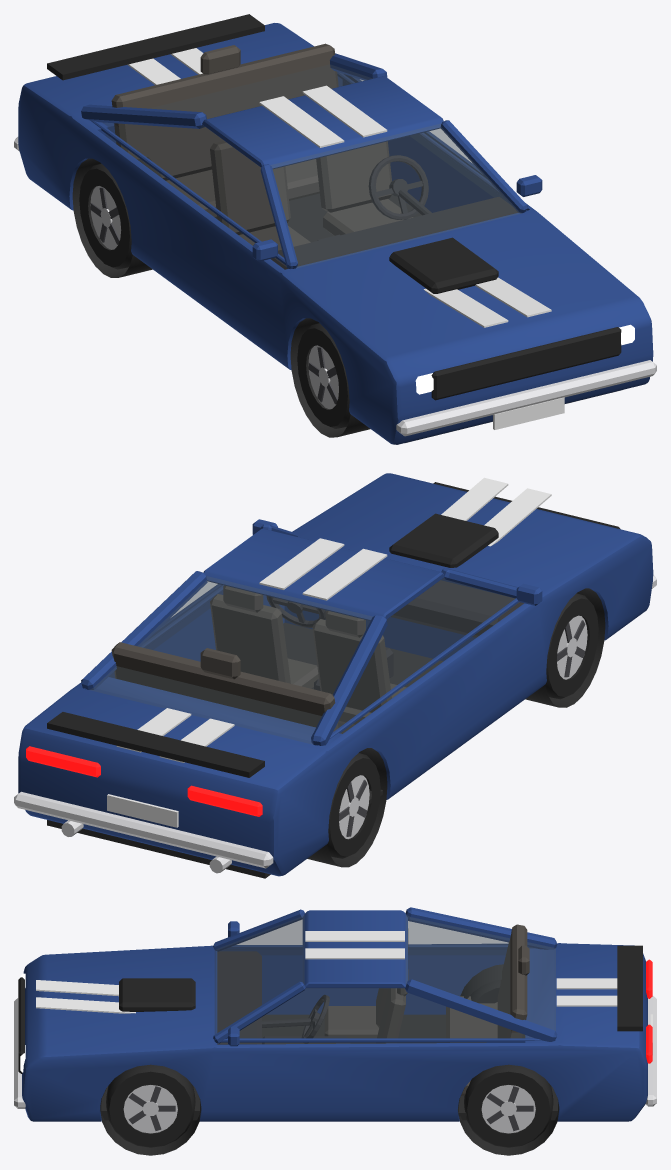
File: muscle_car.glb
The picture shows the model from 3 angles, top to bottom: view 1: azimuth 30°, elevation 25°; view 2: azimuth 150°, elevation 25°; view 3: azimuth 270°, elevation 25°; orthographic projection. The views are drawn at different scales.
Parts seen in each view (by area): view 1: muscle_car_body, glass, wheel_RR, wheel_FR, steering_wheel; view 2: muscle_car_body, glass, wheel_FR, wheel_RR, steering_wheel; view 3: muscle_car_body, glass, wheel_FL, wheel_RL, steering_wheel, wheel_RR.
Boxes of the visible parts, bbox=[...] form: muscle_car_body: bbox=[14, 14, 656, 444]; glass: bbox=[102, 64, 521, 268]; wheel_RR: bbox=[79, 163, 132, 269]; wheel_FR: bbox=[297, 323, 350, 428]; steering_wheel: bbox=[368, 155, 428, 219]; muscle_car_body: bbox=[14, 473, 656, 878]; glass: bbox=[90, 576, 519, 744]; wheel_FR: bbox=[545, 593, 598, 699]; wheel_RR: bbox=[327, 753, 380, 858]; steering_wheel: bbox=[266, 595, 325, 627]; muscle_car_body: bbox=[14, 907, 656, 1155]; glass: bbox=[215, 915, 555, 1043]; wheel_FL: bbox=[106, 1064, 195, 1147]; wheel_RL: bbox=[464, 1064, 553, 1147]; steering_wheel: bbox=[301, 994, 329, 1043]; wheel_RR: bbox=[470, 980, 500, 1003].
Bounding box in the file's own units: 2.12 × 1.39 × 5.03.
